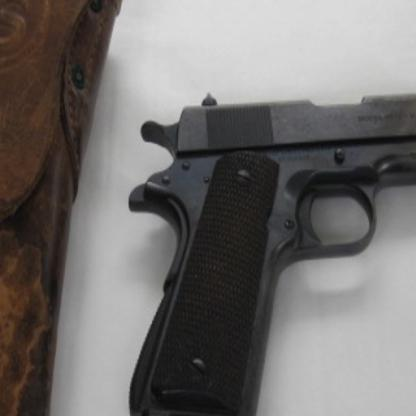gun: (124, 84, 415, 415)
